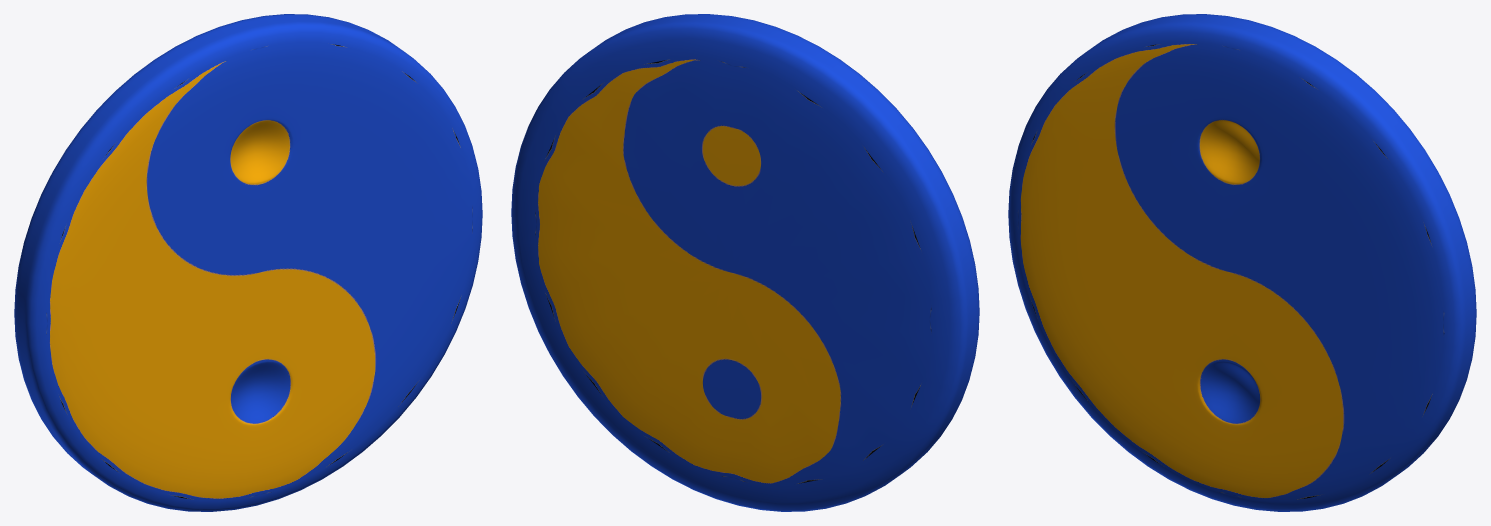
Rendered from yin-yang.glb.
3 views of the same model, side by side, from view 1: azimuth 30°, elevation 25°; view 2: azimuth 150°, elevation 25°; view 3: azimuth 330°, elevation 25° (orthographic).
Visible parts, largest first — view 1: Yin-Yang; view 2: Yin-Yang; view 3: Yin-Yang.
Boxes of the visible parts, left/top/right/bottom form: Yin-Yang: left=14, top=14, right=482, bottom=511; Yin-Yang: left=511, top=14, right=979, bottom=511; Yin-Yang: left=1008, top=14, right=1476, bottom=511.
Bounding box in the file's own units: 1.95 × 1.95 × 0.1969.
Materials: 1 (1 with a texture image).
